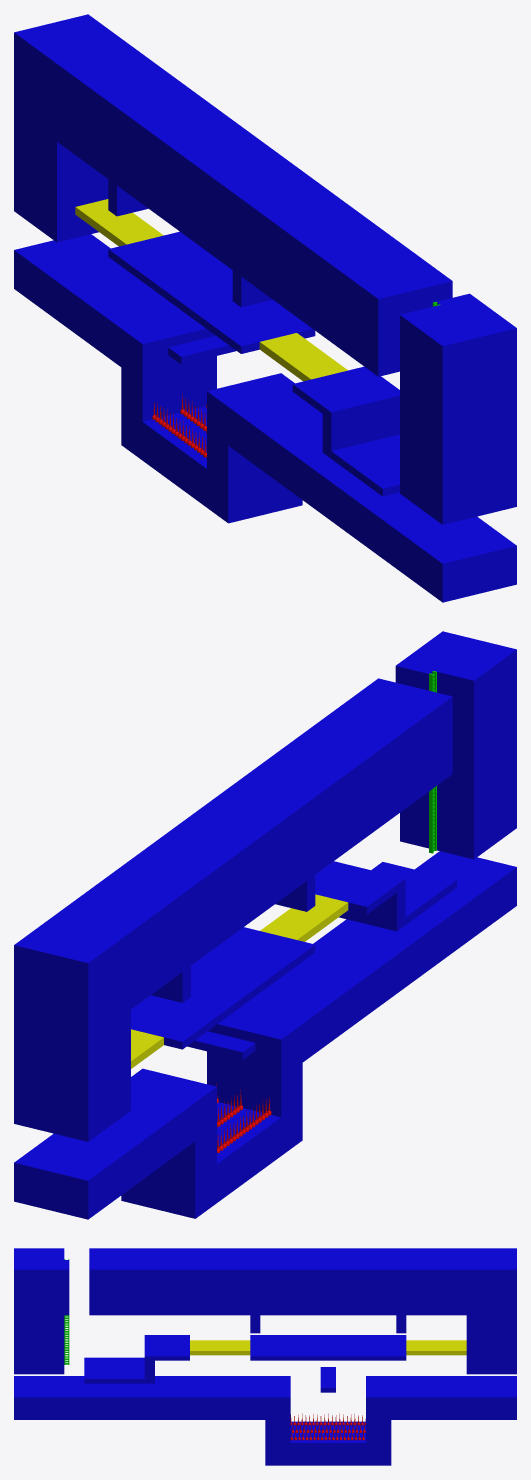
The model's file is Level_3_scene15_colored.fbx.
The picture shows the model from 3 angles, top to bottom: view 1: azimuth 30°, elevation 25°; view 2: azimuth 150°, elevation 25°; view 3: azimuth 270°, elevation 25°; orthographic projection. The views are drawn at different scales.
Visible parts, largest first — view 1: Cube.051, Cube.066, Cube.064, Cube.012, Cube.001, Cube.063, Cube.067, Cube.068, Cone.001; view 2: Cube.051, Cube.066, Cube.064, Cube.012, Cube.063, Cube.001, Cube.067, Cube.068, Cone.001, Cube.005, Cube.003; view 3: Cube.051, Cube.066, Cube.064, Cube.001, Cube.012, Cube.063, Cone.001, Cone.004, Cone.005, Cube.005, Cube.003.
Boxes of the visible parts, left/top/right/bottom form: Cube.051: left=14, top=14, right=516, bottom=602; Cube.066: left=108, top=231, right=315, bottom=353; Cube.064: left=292, top=366, right=399, bottom=496; Cube.012: left=259, top=333, right=347, bottom=381; Cube.001: left=75, top=199, right=163, bottom=246; Cube.063: left=168, top=336, right=236, bottom=364; Cube.067: left=232, top=270, right=272, bottom=307; Cube.068: left=108, top=179, right=148, bottom=216; Cone.001: left=152, top=401, right=206, bottom=458; Cube.051: left=14, top=631, right=516, bottom=1219; Cube.066: left=131, top=927, right=315, bottom=1049; Cube.064: left=315, top=861, right=456, bottom=931; Cube.012: left=260, top=894, right=348, bottom=941; Cube.063: left=187, top=1031, right=255, bottom=1059; Cube.001: left=131, top=1029, right=163, bottom=1068; Cube.067: left=275, top=875, right=315, bottom=911; Cube.068: left=151, top=966, right=190, bottom=1002; Cone.001: left=217, top=1096, right=271, bottom=1152; Cube.005: left=395, top=662, right=432, bottom=690; Cube.003: left=429, top=671, right=436, bottom=853; Cube.051: left=14, top=1248, right=516, bottom=1465; Cube.066: left=250, top=1335, right=406, bottom=1360; Cube.064: left=84, top=1335, right=189, bottom=1383; Cube.001: left=406, top=1340, right=466, bottom=1355; Cube.012: left=190, top=1340, right=250, bottom=1355; Cube.063: left=320, top=1367, right=335, bottom=1392; Cone.001: left=290, top=1413, right=365, bottom=1425; Cone.004: left=290, top=1428, right=364, bottom=1440; Cone.005: left=292, top=1421, right=365, bottom=1432; Cube.005: left=64, top=1260, right=69, bottom=1315; Cube.003: left=64, top=1259, right=69, bottom=1364.
Size of the model in its own units: 1000 by 4300 by 10000.
